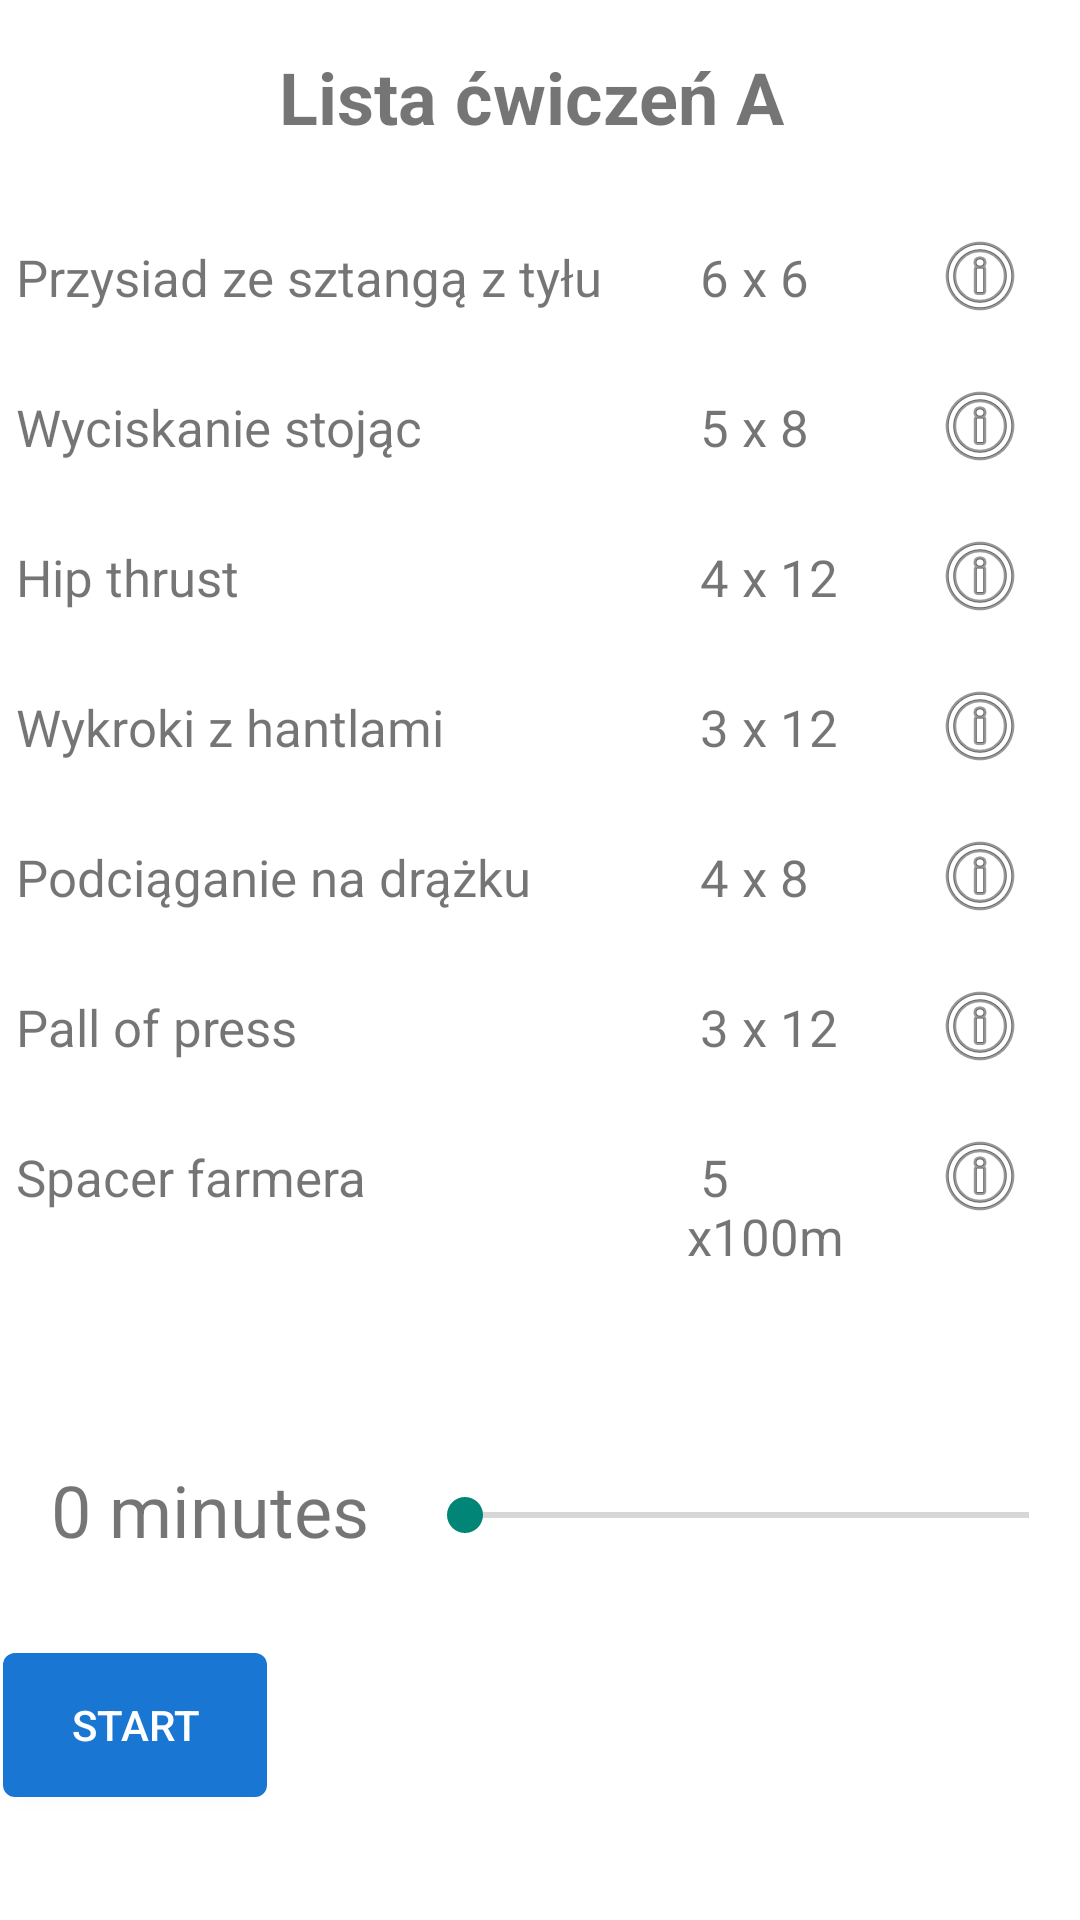

Named icons in this screenshot (1080px×1920px) and their bounding boxes, [left=x1, top=y1, right=x2, bottom=y2]:
info details: [left=945, top=241, right=1015, bottom=311], [left=945, top=391, right=1015, bottom=461], [left=945, top=541, right=1015, bottom=611], [left=945, top=691, right=1015, bottom=761], [left=945, top=841, right=1015, bottom=911], [left=945, top=991, right=1015, bottom=1061], [left=945, top=1141, right=1015, bottom=1211]
